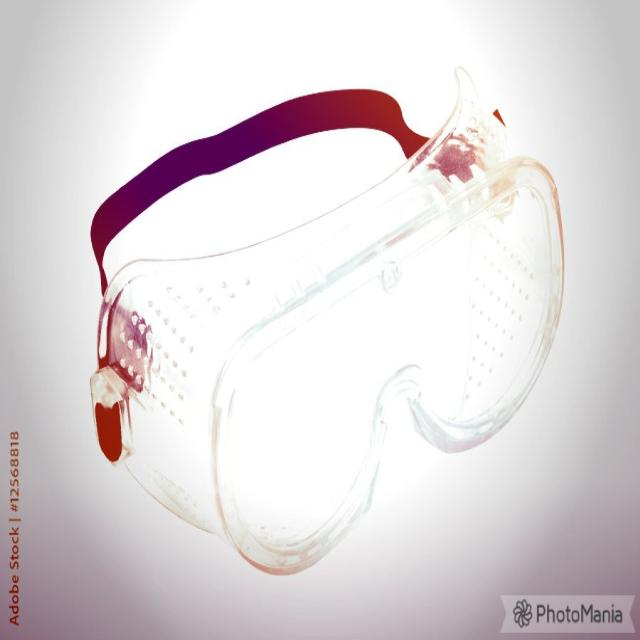Goggles: (84, 57, 568, 579)
